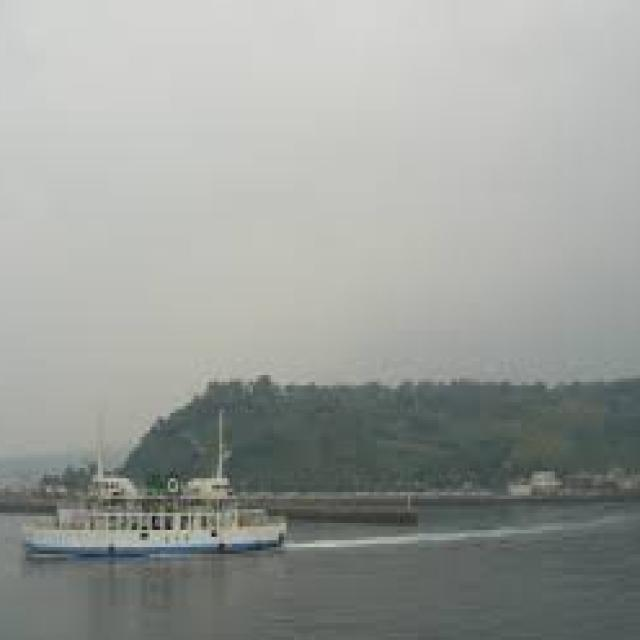houseboat: (29, 461, 279, 576)
